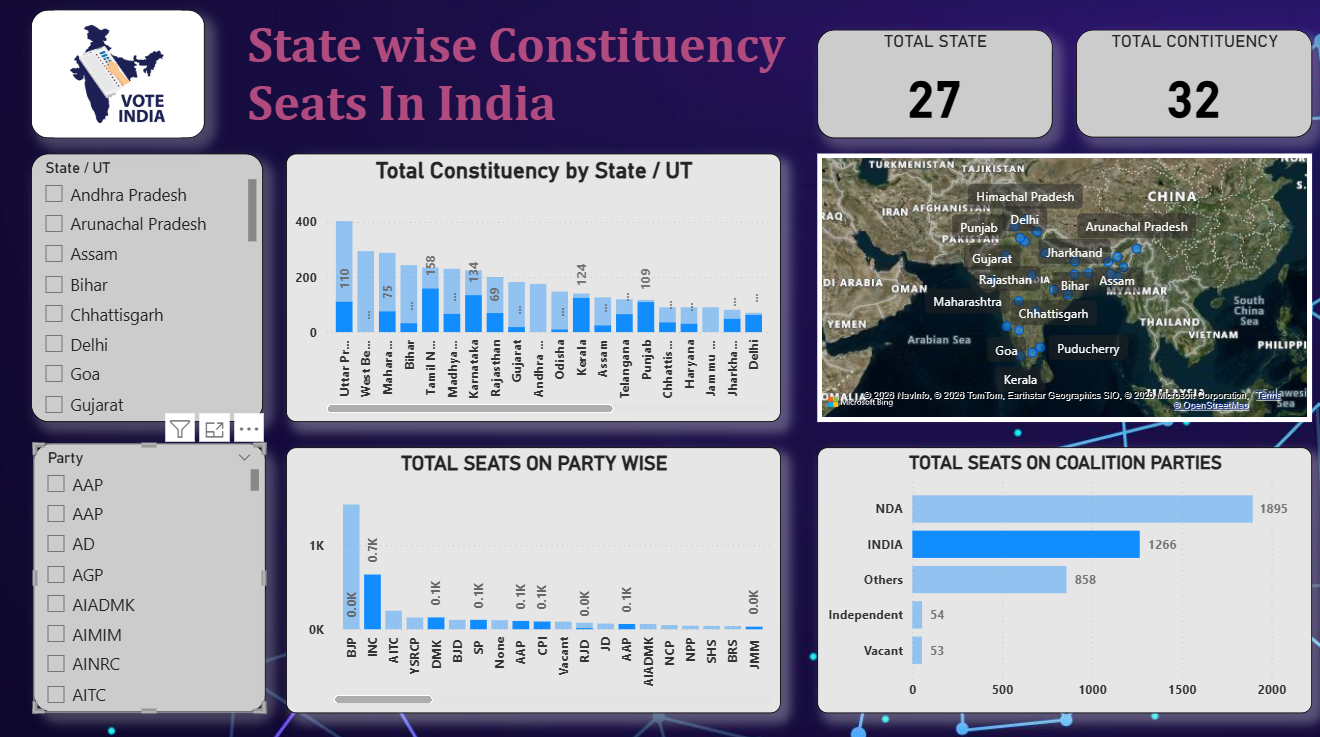

What the dashboard file says about the page in this screenshot:
{"tool":"powerbi","page":{"name":"Page 1","canvas":[1280,720],"ordinal":0},"visuals":[{"type":"card","title":"TOTAL STATE","fields":{"Values":["Count(Data.State / UT)"]},"box":[792.6,32.6,226.8,105],"z":0},{"type":"card","title":"TOTAL CONTITUENCY","fields":{"Values":["Count(Data.Total Constituency)"]},"box":[1042.4,32.6,228,103.8],"z":1000},{"type":"columnChart","title":"Total Constituency by State / UT","fields":{"Category":["Data.State / UT"],"Y":["Sum(Data.Total Constituency)"]},"box":[279.9,152.3,477.5,259.3],"z":2000},{"type":"map","fields":{"Category":["Data.State / UT"]},"box":[793.1,152.3,477.5,259.3],"z":3000},{"type":"columnChart","title":"TOTAL SEATS ON PARTY WISE","fields":{"Y":["Sum(Data.Total Constituency)"],"Category":["Data.Party"]},"box":[279.9,435,477.5,256.6],"z":4000},{"type":"clusteredBarChart","title":"TOTAL SEATS ON COALITION PARTIES","fields":{"Category":["Data.NDA / INDI"],"Y":["Sum(Data.Total Constituency)"]},"box":[793.1,435,477.5,256.6],"z":5000},{"type":"slicer","fields":{"Values":["Data.State / UT"]},"box":[34.3,152.3,223.7,259.3],"z":6000},{"type":"slicer","fields":{"Values":["Data.Party"]},"box":[35.7,432.2,223.7,259.3],"z":7000},{"type":"textbox","box":[237.4,13.7,544.8,138.6],"z":8000},{"type":"image","box":[33.8,13.3,167.7,124.3],"z":8001}]}

Visuals, with their boxes in screenshot pixels (x1, y1, x2, y2), scaled from the page's 1280x720 canvas onto the 1320x737 screenshot:
"TOTAL STATE" card: [817,33,1051,141]
"TOTAL CONTITUENCY" card: [1075,33,1310,140]
"Total Constituency by State / UT" columnChart: [289,156,781,421]
map - Data.State / UT: [818,156,1310,421]
"TOTAL SEATS ON PARTY WISE" columnChart: [289,445,781,708]
"TOTAL SEATS ON COALITION PARTIES" clusteredBarChart: [818,445,1310,708]
slicer - Data.State / UT: [35,156,266,421]
slicer - Data.Party: [37,442,268,708]
textbox: [245,14,807,156]
image: [35,14,208,141]
